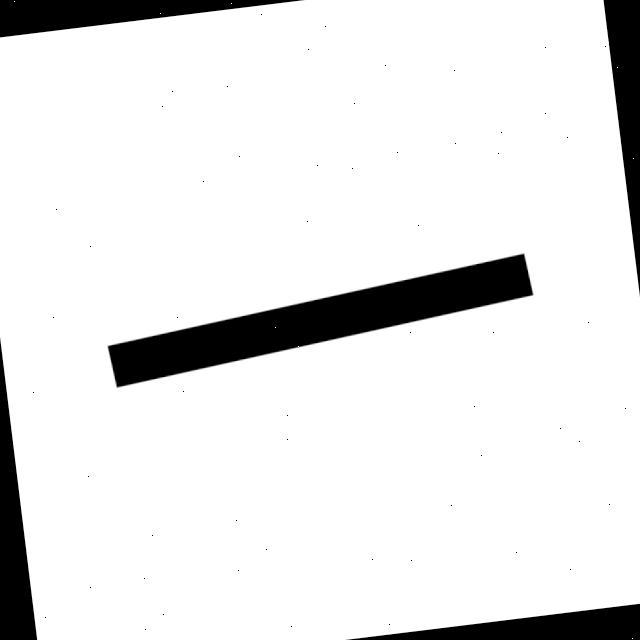line: (107, 253, 533, 387)
